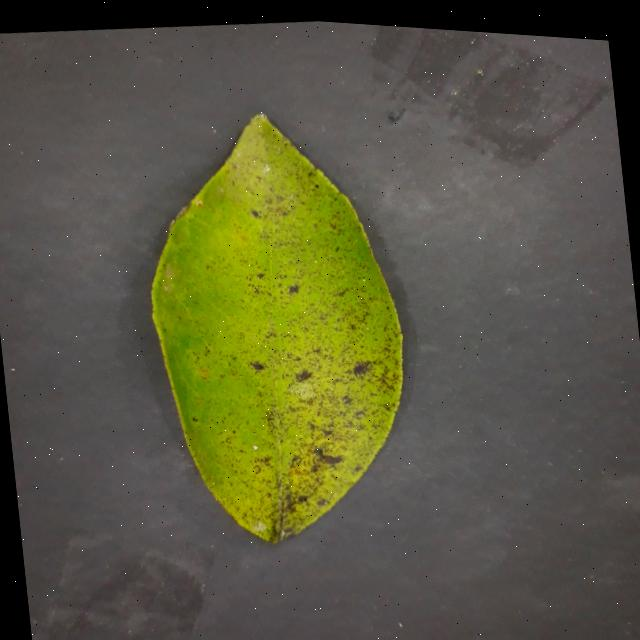greasy_spot: (152, 113, 401, 541)
